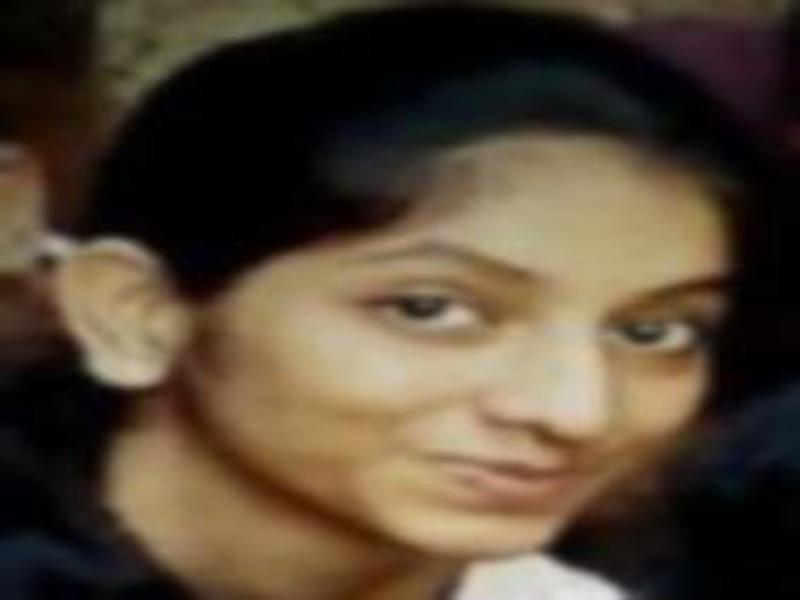without_mask: (184, 181, 734, 560)
